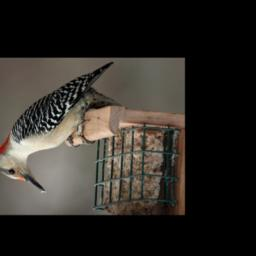Woodpecker: (0, 61, 123, 193)
